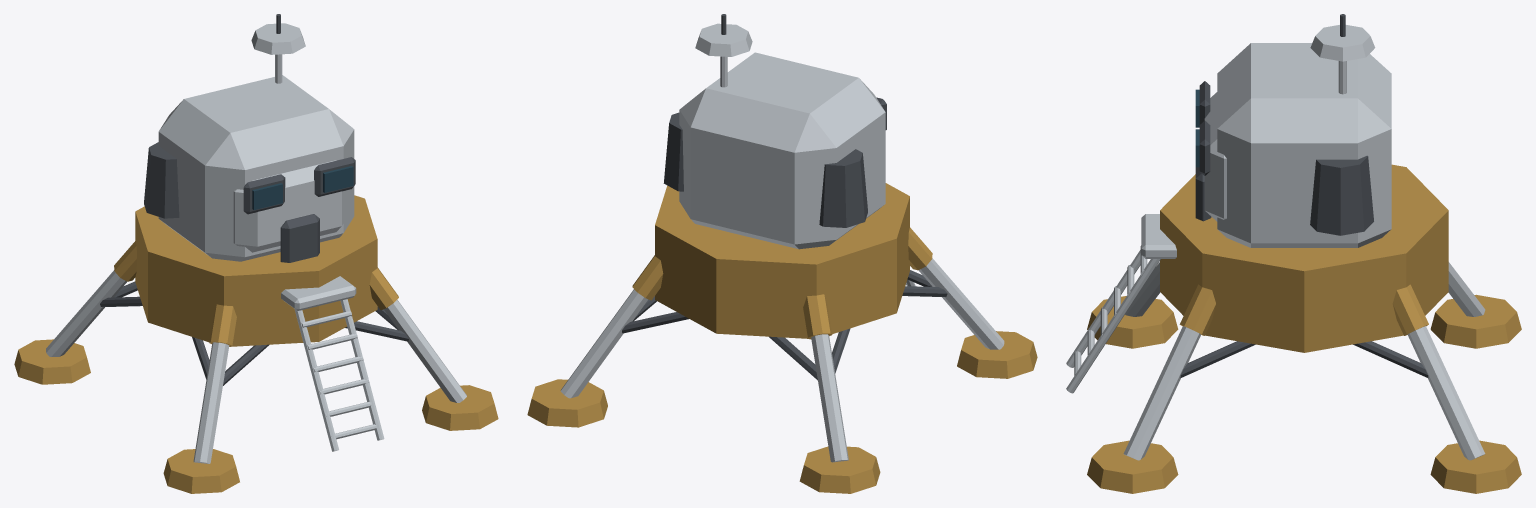
The model's file is NEW_RECOVERY_127_LOD2.glb.
3 views of the same model, side by side, from view 1: azimuth 30°, elevation 25°; view 2: azimuth 150°, elevation 25°; view 3: azimuth 270°, elevation 25° (orthographic). The views are drawn at different scales.
Visible parts, largest first — view 1: Generic lunar lander solid decorative assembly; view 2: Generic lunar lander solid decorative assembly; view 3: Generic lunar lander solid decorative assembly.
Boxes of the visible parts, x1,y1,x2,y2 form: Generic lunar lander solid decorative assembly: [14, 14, 498, 493]; Generic lunar lander solid decorative assembly: [527, 14, 1037, 493]; Generic lunar lander solid decorative assembly: [1066, 14, 1521, 493].
Size of the model in its own units: 3.62 by 3.75 by 3.79.
